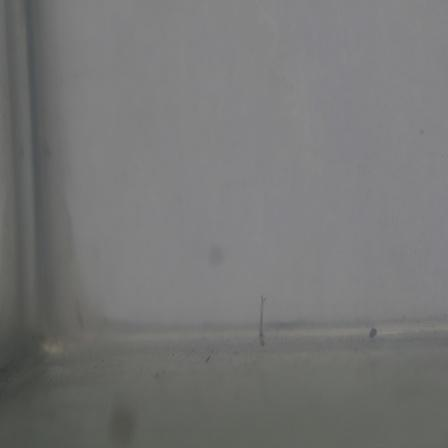Jentik-Nyamuk: (255, 290, 275, 354)
